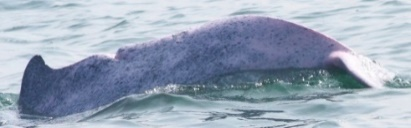fin: (14, 5, 372, 128)
